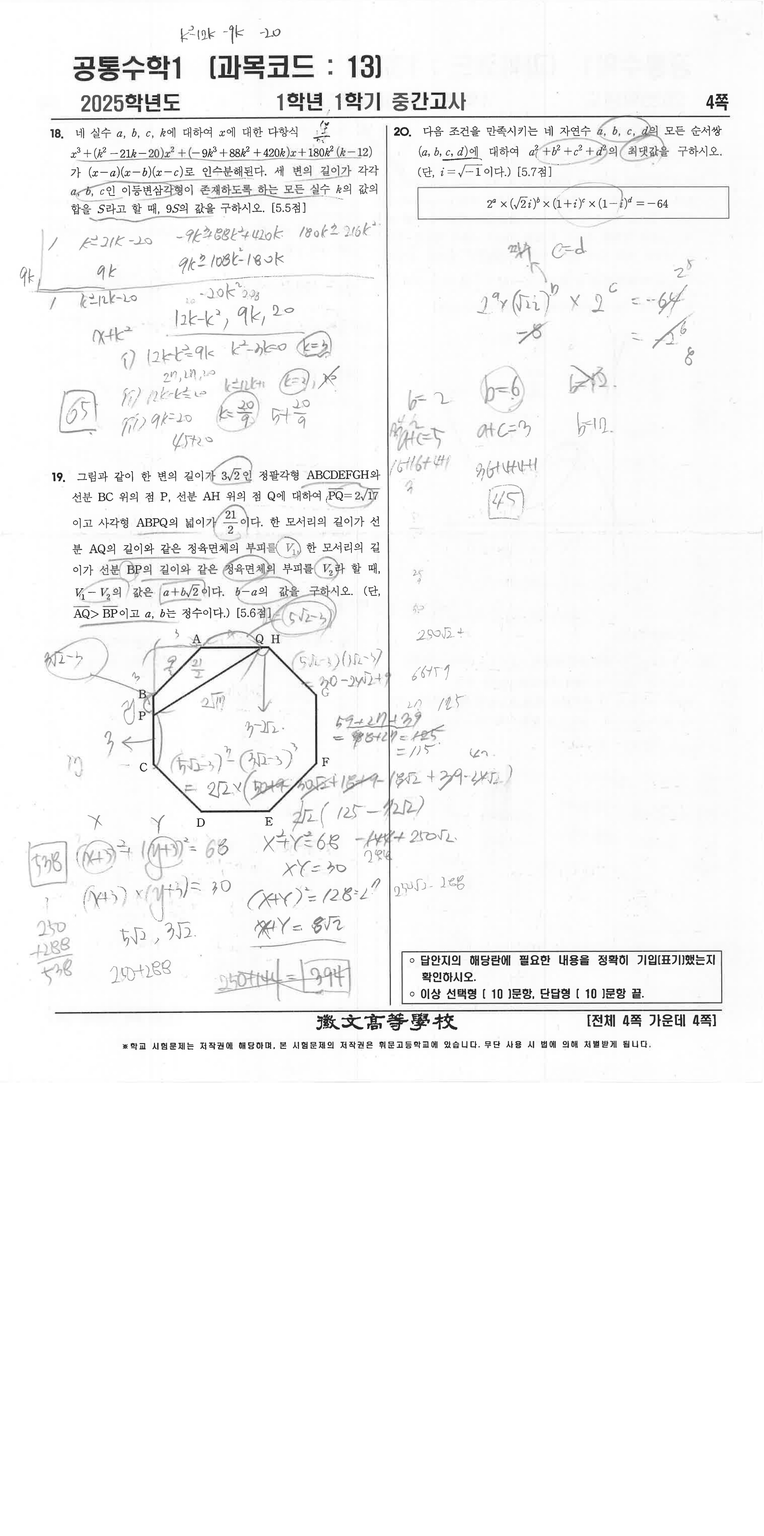problem: (42, 458, 384, 833), (390, 122, 742, 225), (48, 123, 381, 221)
